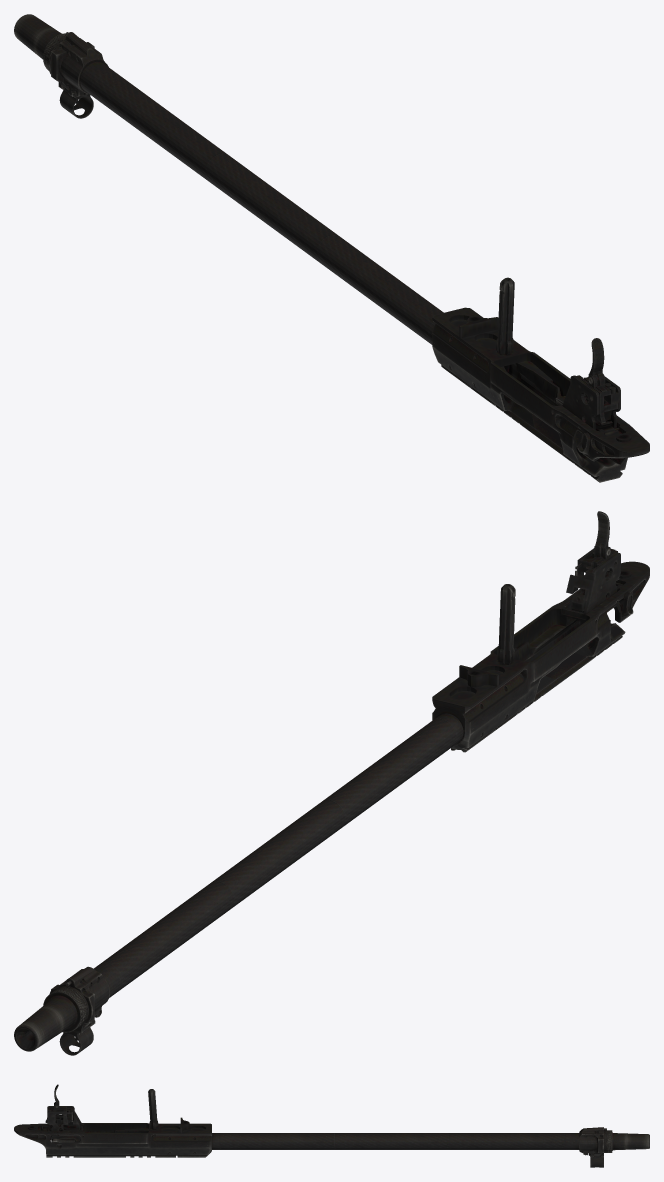
3 renders of one model, top to bottom at view 1: azimuth 30°, elevation 25°; view 2: azimuth 150°, elevation 25°; view 3: azimuth 270°, elevation 25°, orthographic. The views are drawn at different scales.
Visible parts, largest first — view 1: TW_55801eed4bdc2d89578b4588_PZ_Import; view 2: TW_55801eed4bdc2d89578b4588_PZ_Import; view 3: TW_55801eed4bdc2d89578b4588_PZ_Import.
Boxes of the visible parts, bbox=[...] form: TW_55801eed4bdc2d89578b4588_PZ_Import: bbox=[14, 14, 649, 482]; TW_55801eed4bdc2d89578b4588_PZ_Import: bbox=[14, 511, 649, 1055]; TW_55801eed4bdc2d89578b4588_PZ_Import: bbox=[14, 1084, 649, 1167].
Size of the model in its own units: 0.0243 by 0.4992 by 0.0706.
Materials: 1 (1 with a texture image).
